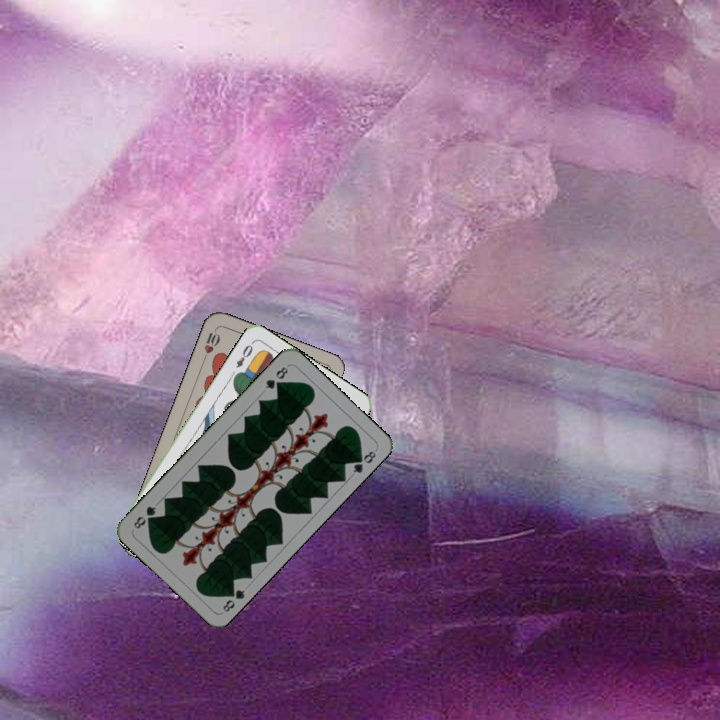EO: (232, 338, 256, 371)
G8: (218, 583, 248, 615), (261, 363, 291, 392)
H10: (199, 325, 223, 364)
